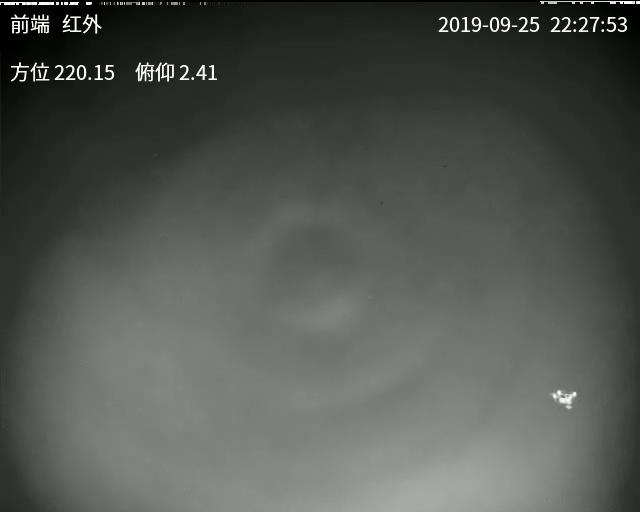uav: (546, 384, 577, 413)
